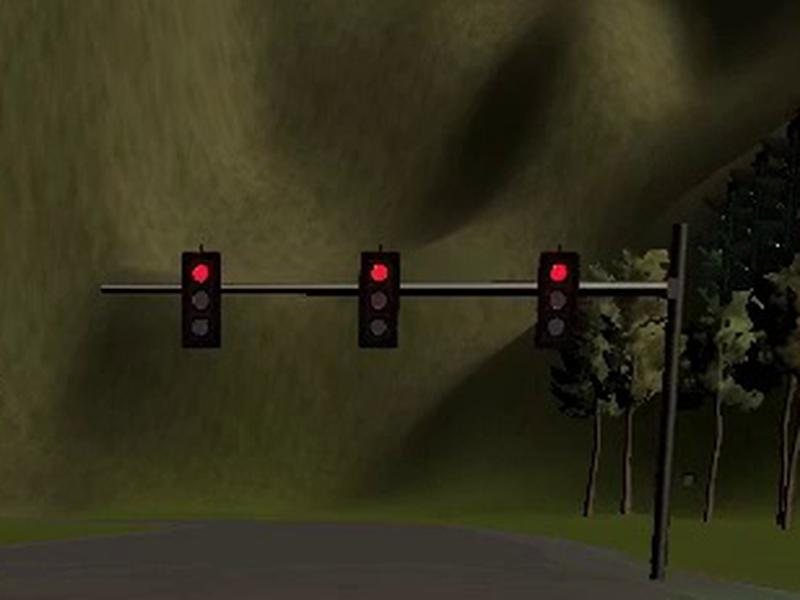Red: (533, 252, 579, 349), (360, 252, 399, 349), (182, 252, 221, 348)
